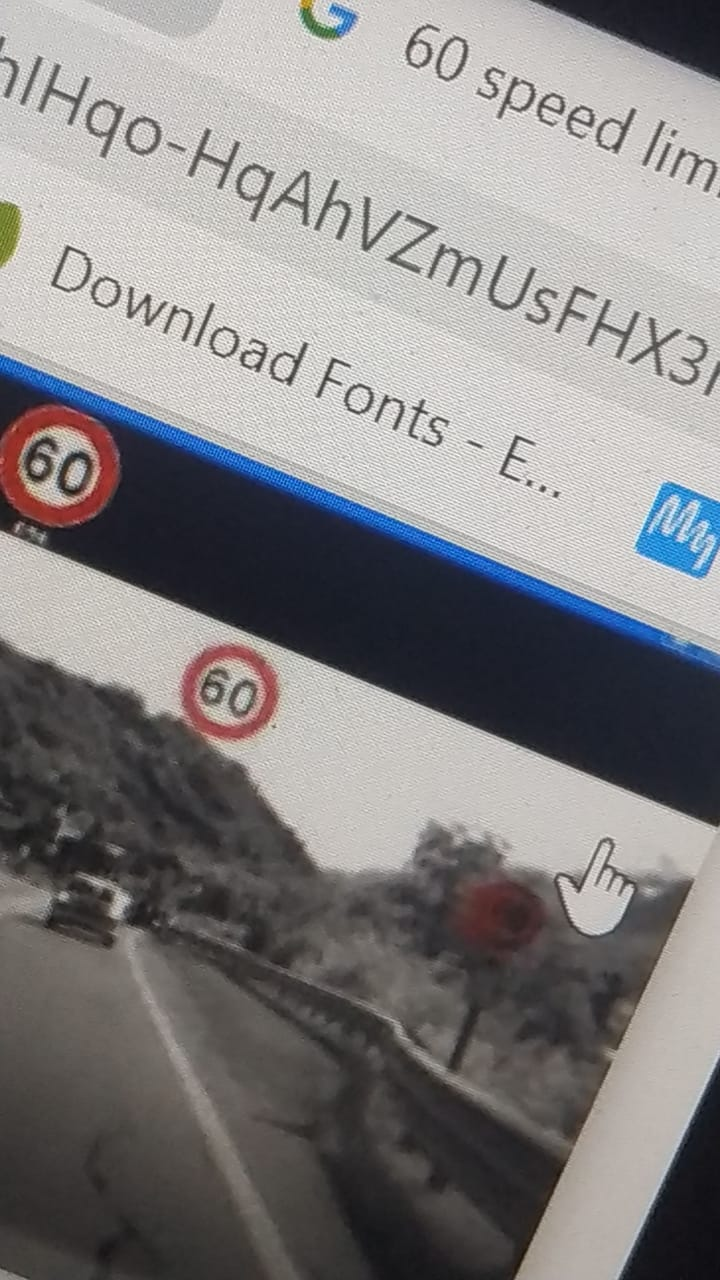SPEED LIMIT (60 KM/H): (1, 344, 186, 568), (172, 626, 297, 749)
